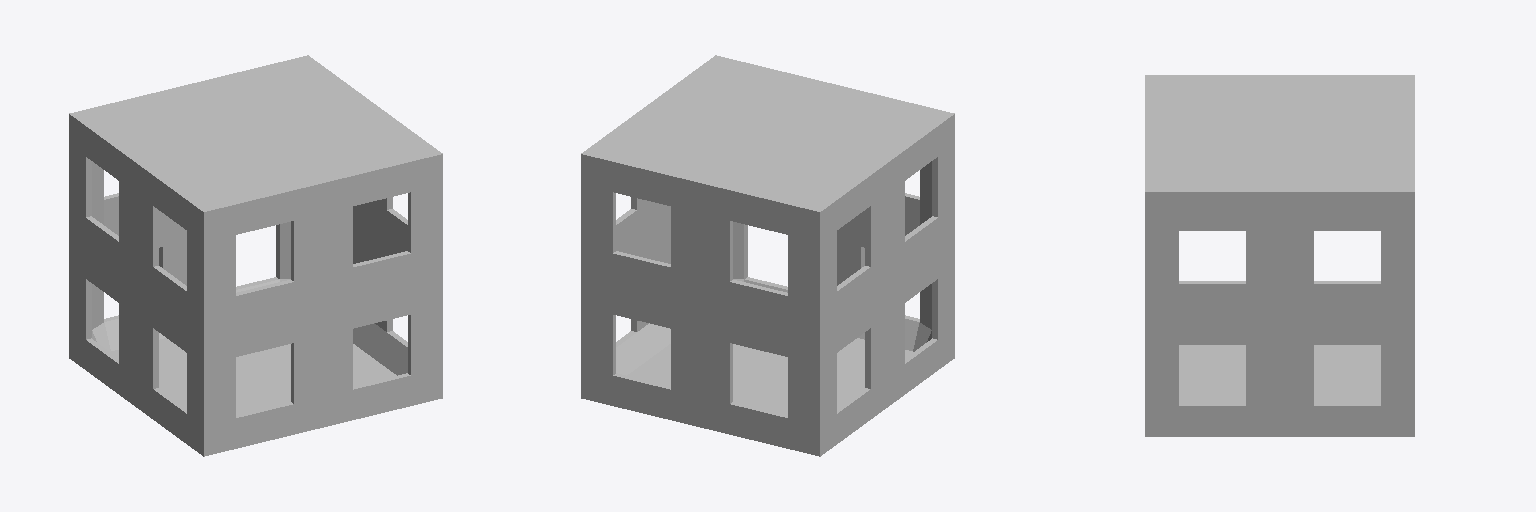
The picture shows the model from 3 angles: view 1: azimuth 30°, elevation 25°; view 2: azimuth 150°, elevation 25°; view 3: azimuth 270°, elevation 25°; orthographic projection.
Visible parts, largest first — view 1: 立方体.003, 立方体, 立方体.004, 立方体.001, 立方体.005, 立方体.002; view 2: 立方体.002, 立方体, 立方体.004, 立方体.001, 立方体.005, 立方体.003; view 3: 立方体.001, 立方体.004, 立方体.005, 立方体, 立方体.003, 立方体.002.
Part boxes in pixels (x1,y1,x2,y2): 立方体.003: (193,140,439,455); 立方体: (69,110,241,456); 立方体.004: (74,56,439,214); 立方体.001: (279,55,442,406); 立方体.005: (111,338,438,454); 立方体.002: (78,56,320,351); 立方体.002: (584,141,830,454); 立方体: (782,107,954,456); 立方体.004: (585,57,949,215); 立方体.001: (581,55,748,398); 立方体.005: (585,338,912,455); 立方体.003: (700,56,949,351); 立方体.001: (1145,174,1414,436); 立方体.004: (1145,77,1414,190); 立方体.005: (1179,345,1380,402); 立方体: (1145,75,1414,230); 立方体.003: (1145,82,1183,190); 立方体.002: (1379,77,1414,190).
Bounding box in the file's own units: 82 × 80 × 80.